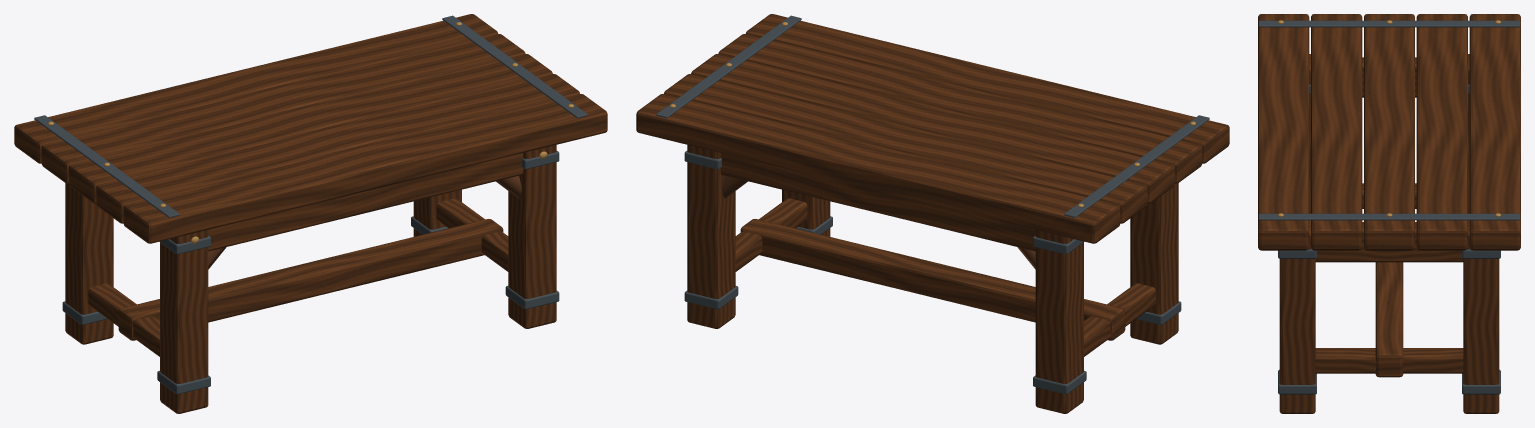
Rendered from Table.glb.
3 renders of one model, left to right at view 1: azimuth 30°, elevation 25°; view 2: azimuth 150°, elevation 25°; view 3: azimuth 270°, elevation 25°, orthographic. The views are drawn at different scales.
Parts seen in each view (by area): view 1: Thick_Oak_Tabletop_Plank, Thick_Oak_Tabletop_Plank.001, Thick_Oak_Tabletop_Plank.003, Thick_Oak_Tabletop_Plank.002, Thick_Oak_Tabletop_Plank.004, Long_Lower_Stretcher, Square_Taper_Style_Leg, Square_Taper_Style_Leg.002, Long_Apron, Square_Taper_Style_Leg.001, Lower_Crossbar, Lower_Crossbar.001 (+5 smaller); view 2: Thick_Oak_Tabletop_Plank.004, Thick_Oak_Tabletop_Plank.001, Thick_Oak_Tabletop_Plank.003, Thick_Oak_Tabletop_Plank, Thick_Oak_Tabletop_Plank.002, Long_Lower_Stretcher, Square_Taper_Style_Leg.001, Square_Taper_Style_Leg.003, Long_Apron.001, Square_Taper_Style_Leg, Lower_Crossbar, Lower_Crossbar.001 (+5 smaller); view 3: Thick_Oak_Tabletop_Plank, Thick_Oak_Tabletop_Plank.004, Thick_Oak_Tabletop_Plank.001, Thick_Oak_Tabletop_Plank.003, Thick_Oak_Tabletop_Plank.002, Square_Taper_Style_Leg.002, Square_Taper_Style_Leg.003, Long_Lower_Stretcher, Lower_Crossbar.001, Top_Iron_End_Strap, Top_Iron_End_Strap.001, End_Apron.001 (+6 smaller).
Part boxes in pixels (x1,y1,x2,y2): Thick_Oak_Tabletop_Plank: (123,94,607,243); Thick_Oak_Tabletop_Plank.001: (96,74,579,223); Thick_Oak_Tabletop_Plank.003: (41,34,525,183); Thick_Oak_Tabletop_Plank.002: (69,54,552,203); Thick_Oak_Tabletop_Plank.004: (14,14,498,163); Long_Lower_Stretcher: (118,219,503,340); Square_Taper_Style_Leg: (160,230,208,413); Square_Taper_Style_Leg.002: (508,145,556,328); Long_Apron: (208,153,523,251); Square_Taper_Style_Leg.001: (65,183,113,344); Lower_Crossbar: (88,283,159,356); Lower_Crossbar.001: (436,198,508,271); Thick_Oak_Tabletop_Plank.004: (636,94,1120,243); Thick_Oak_Tabletop_Plank.001: (718,34,1202,183); Thick_Oak_Tabletop_Plank.003: (664,74,1147,223); Thick_Oak_Tabletop_Plank: (745,14,1229,163); Thick_Oak_Tabletop_Plank.002: (691,54,1174,203); Long_Lower_Stretcher: (740,219,1125,340); Square_Taper_Style_Leg.001: (1035,230,1083,413); Square_Taper_Style_Leg.003: (687,145,735,328); Long_Apron.001: (720,153,1035,251); Square_Taper_Style_Leg: (1130,183,1178,344); Lower_Crossbar: (1084,283,1155,356); Lower_Crossbar.001: (735,198,807,271); Thick_Oak_Tabletop_Plank: (1258,14,1309,250); Thick_Oak_Tabletop_Plank.004: (1469,14,1520,250); Thick_Oak_Tabletop_Plank.001: (1311,14,1362,250); Thick_Oak_Tabletop_Plank.003: (1416,14,1467,250); Thick_Oak_Tabletop_Plank.002: (1364,14,1414,250); Square_Taper_Style_Leg.002: (1279,220,1315,413); Square_Taper_Style_Leg.003: (1463,220,1499,413); Long_Lower_Stretcher: (1375,262,1403,377); Lower_Crossbar.001: (1315,348,1463,373); Top_Iron_End_Strap: (1258,20,1520,27); Top_Iron_End_Strap.001: (1258,213,1520,220); End_Apron.001: (1309,222,1469,262).
Bounding box in the file's own units: 1.85 × 0.8242 × 0.944.
4 materials, 1 textured.
